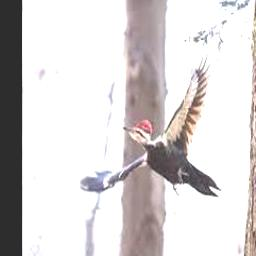Woodpecker: (79, 46, 221, 197)
